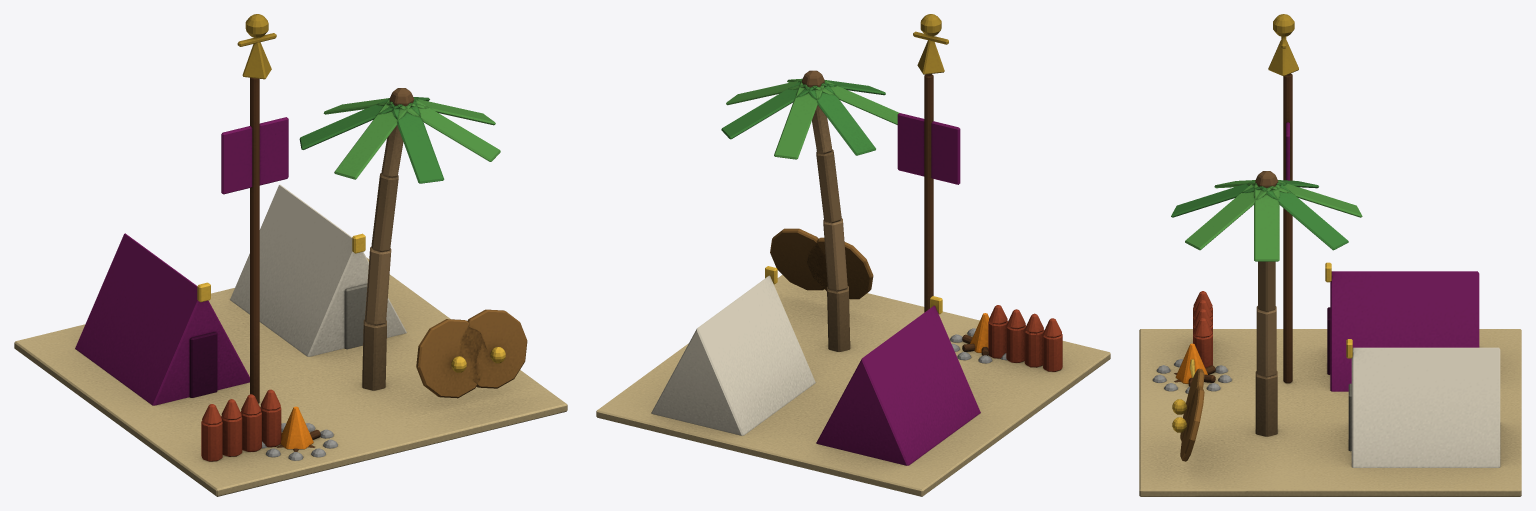
Rendered from oboz_kartaginy.glb.
3 renders of one model, left to right at view 1: azimuth 30°, elevation 25°; view 2: azimuth 150°, elevation 25°; view 3: azimuth 270°, elevation 25°, orthographic. The views are drawn at different scales.
Parts seen in each view (by area): view 1: oboz_kartaginy; view 2: oboz_kartaginy; view 3: oboz_kartaginy.
Boxes of the visible parts, x1,y1,x2,y2 form: oboz_kartaginy: (14, 14, 567, 496); oboz_kartaginy: (596, 14, 1110, 496); oboz_kartaginy: (1139, 14, 1521, 496).
Bounding box in the file's own units: 1.8 × 1.95 × 1.8.
1 material, 1 textured.
